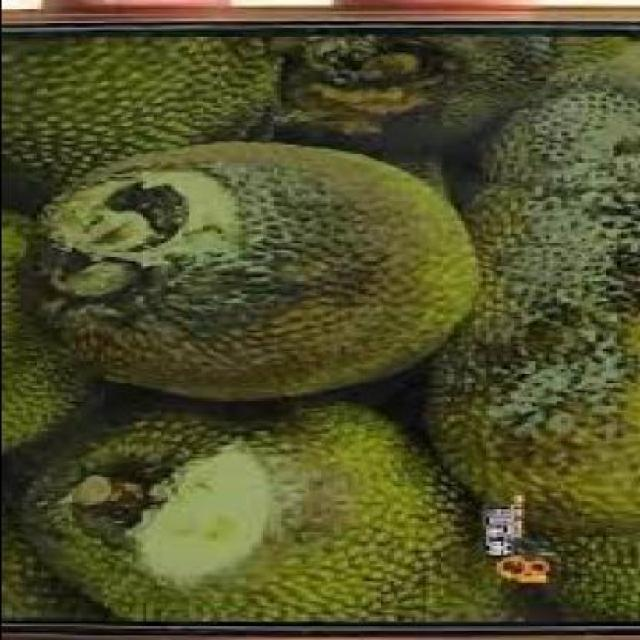BIODEGRADABLE: (17, 145, 485, 406), (25, 402, 530, 623), (420, 66, 638, 542), (3, 38, 286, 205), (283, 38, 639, 162), (4, 514, 113, 621), (520, 534, 638, 624)
